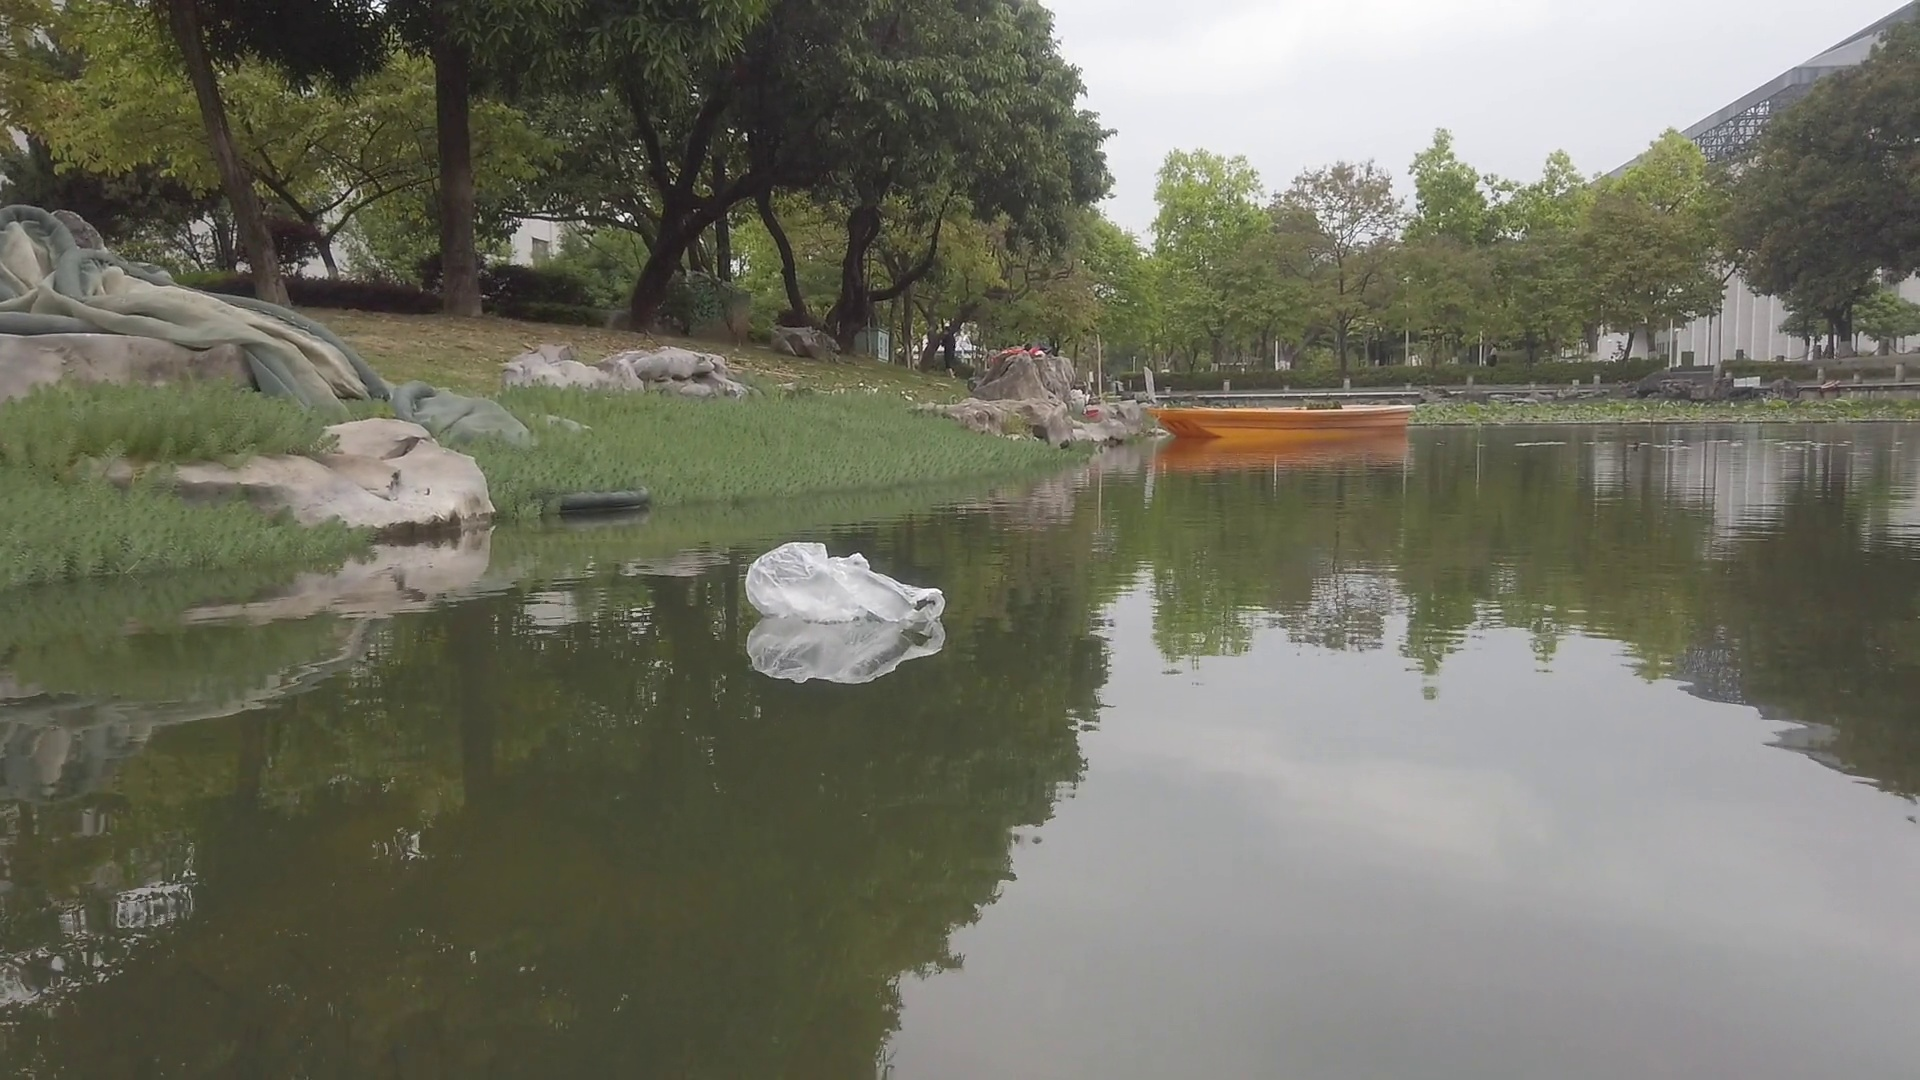plastic: (745, 542, 943, 641)
